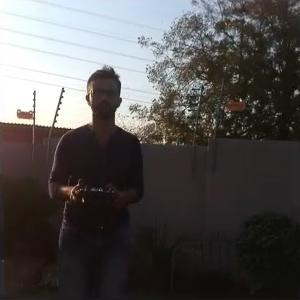follow: (41, 58, 150, 299)
